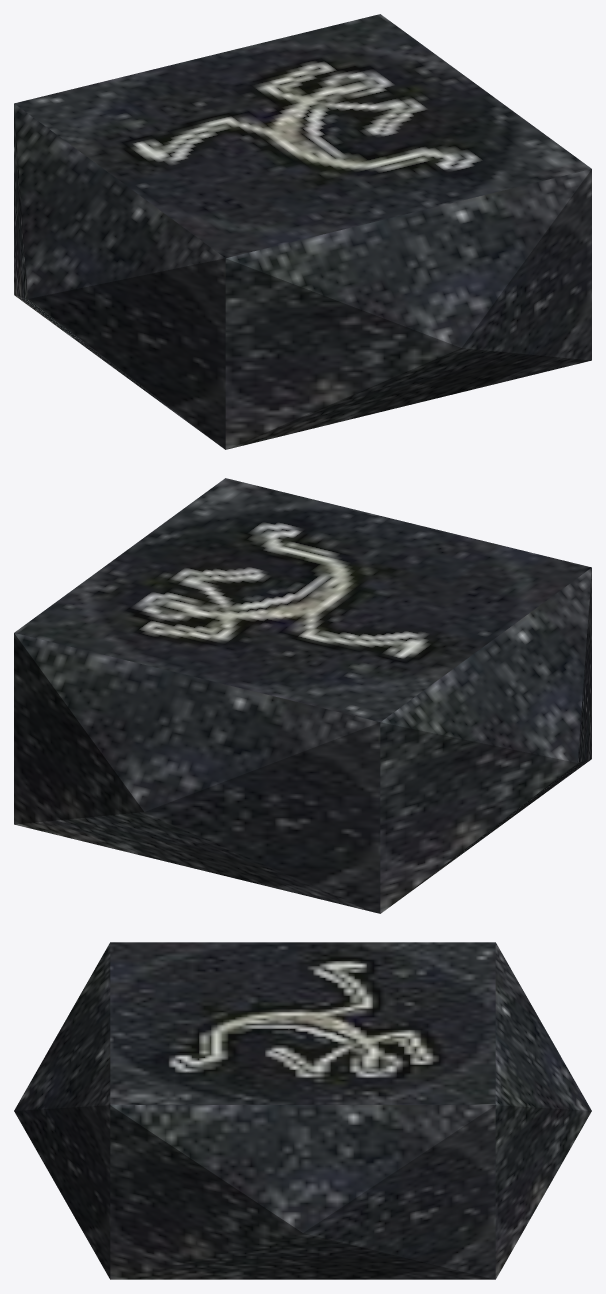
Rendered from ITRU_FEAR.glb.
The picture shows the model from 3 angles, top to bottom: view 1: azimuth 30°, elevation 25°; view 2: azimuth 150°, elevation 25°; view 3: azimuth 270°, elevation 25°; orthographic projection. The views are drawn at different scales.
Parts seen in each view (by area): view 1: ITRU_FEAR; view 2: ITRU_FEAR; view 3: ITRU_FEAR.
Boxes of the visible parts, x1,y1,x2,y2 form: ITRU_FEAR: (14,14,591,449); ITRU_FEAR: (14,478,591,913); ITRU_FEAR: (14,942,591,1279).
Bounding box in the file's own units: 0.27 × 0.09 × 0.27.
1 material, 1 textured.
